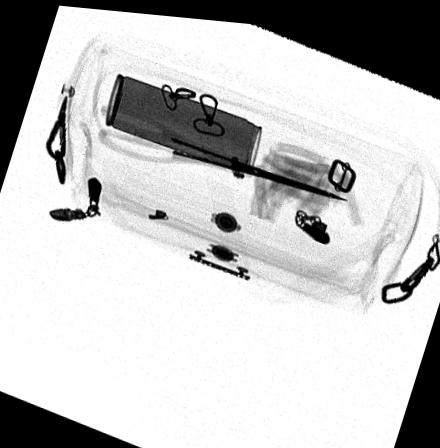Scissors: (92, 101, 350, 197)
